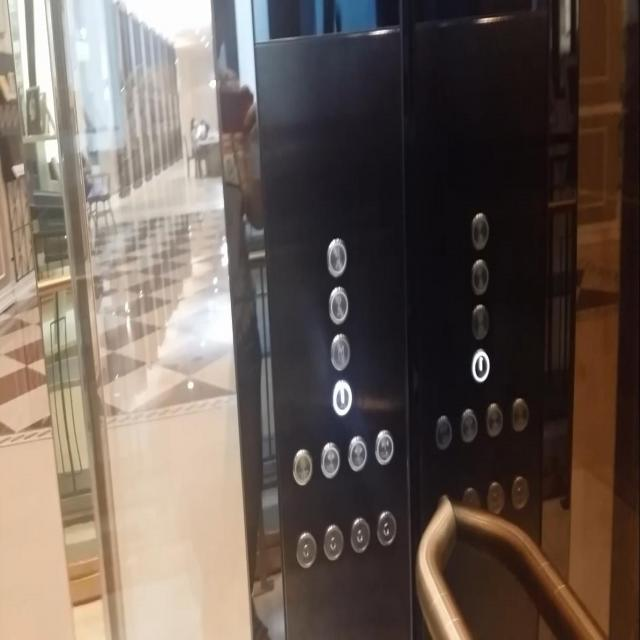1: (330, 377, 352, 418), (470, 347, 490, 382)
2: (328, 283, 348, 325)
M: (328, 332, 351, 372)
blur: (325, 234, 347, 277)
close: (372, 427, 394, 464)
empty: (469, 256, 489, 296), (469, 301, 489, 341), (470, 210, 489, 250), (433, 413, 453, 449), (484, 401, 504, 437), (508, 396, 528, 432), (458, 407, 478, 442), (510, 474, 529, 510), (486, 479, 504, 515)
keyhole: (376, 509, 398, 547), (348, 514, 370, 552), (322, 522, 344, 559), (295, 531, 317, 568)
open: (318, 442, 341, 479), (346, 434, 368, 472)
unknown: (292, 447, 314, 485)
